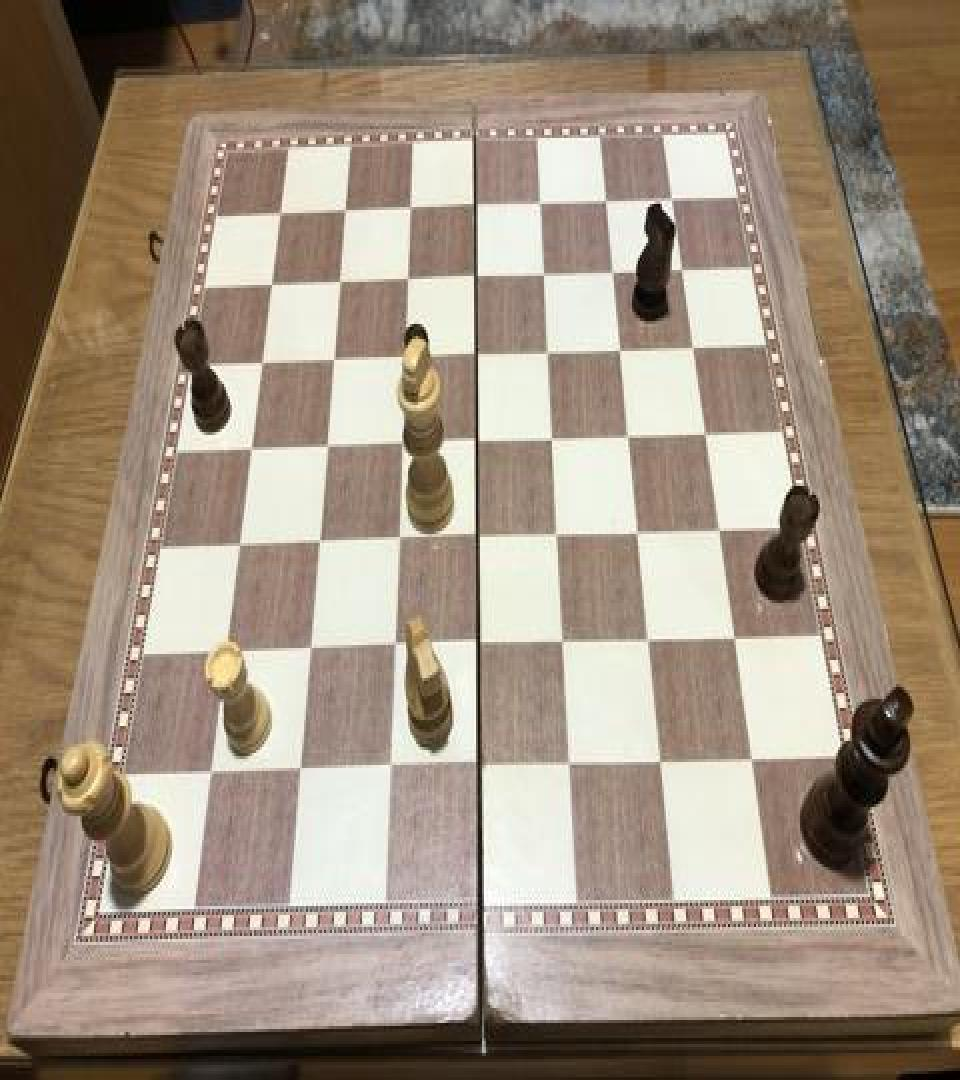xcorner: (465, 520, 489, 557), (723, 622, 747, 659), (381, 631, 405, 668), (213, 637, 237, 674), (649, 748, 673, 785), (376, 754, 400, 791), (660, 178, 684, 214), (594, 182, 618, 218), (528, 184, 552, 220), (398, 190, 422, 226), (334, 194, 358, 230), (269, 196, 293, 232), (670, 250, 694, 286), (601, 254, 625, 290), (532, 256, 556, 292), (395, 261, 419, 297), (328, 264, 352, 300), (260, 267, 284, 303), (608, 332, 632, 368), (536, 334, 560, 370), (464, 338, 488, 374), (392, 340, 416, 376), (321, 342, 345, 378), (250, 345, 274, 381), (694, 416, 718, 452), (617, 418, 641, 454), (540, 422, 564, 458), (464, 424, 488, 460), (389, 426, 413, 462), (314, 429, 338, 465), (239, 432, 263, 468), (707, 513, 731, 549), (626, 516, 650, 552), (545, 518, 569, 554), (385, 524, 409, 560), (306, 526, 330, 562), (227, 528, 251, 564), (637, 624, 661, 660), (551, 627, 575, 663), (465, 630, 489, 666), (296, 634, 320, 670), (741, 746, 765, 782), (557, 750, 581, 786), (466, 753, 490, 789), (286, 758, 310, 794), (197, 759, 221, 795), (463, 188, 487, 223), (464, 260, 488, 295), (681, 329, 705, 364)
